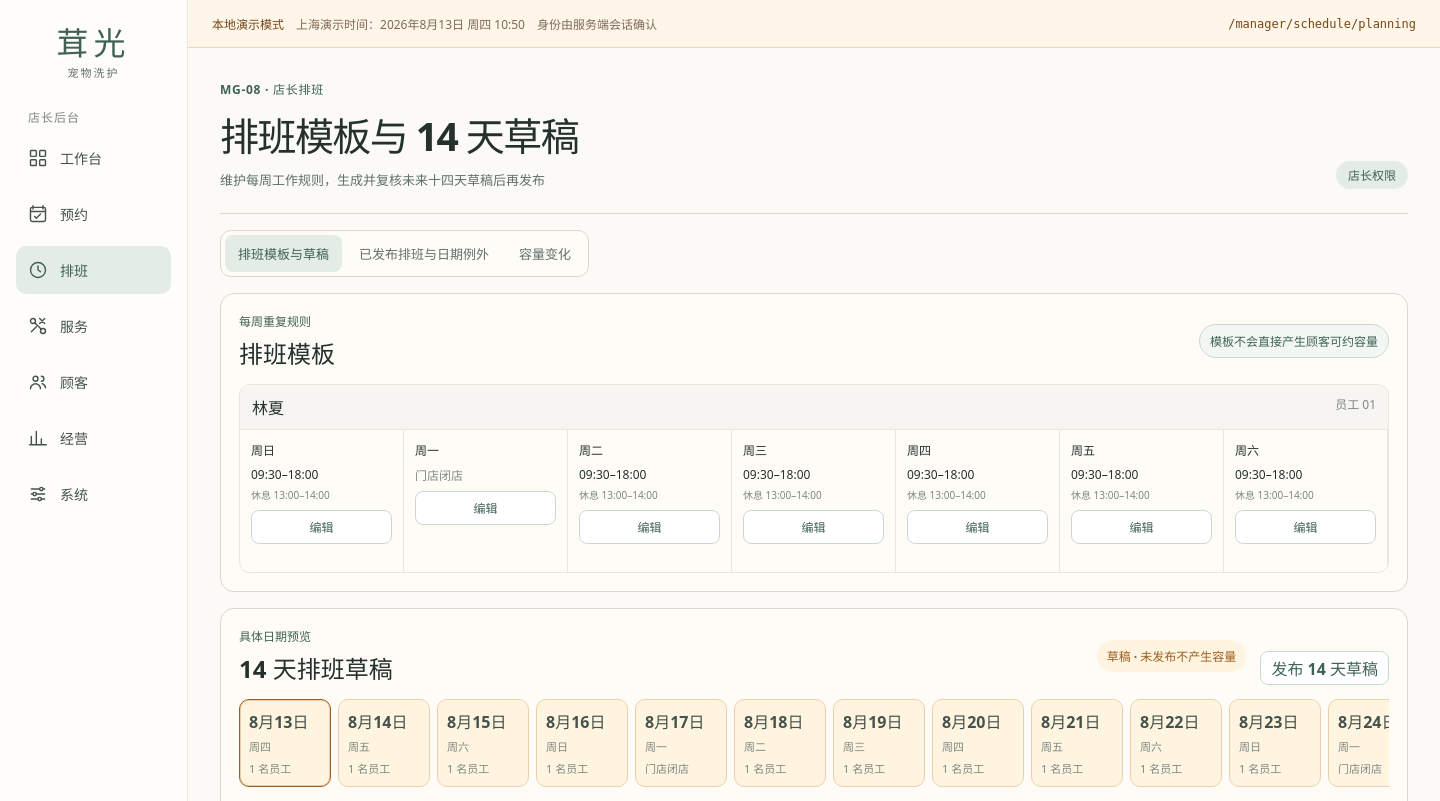
Scenario: MG-08 排班模板与十四天草稿页面 › 确认后一次发布十四天草稿，并明确指向已发布排班
Click the button "发布 14 天草稿".
click(1325, 668)  # box [1260, 651, 1389, 685]
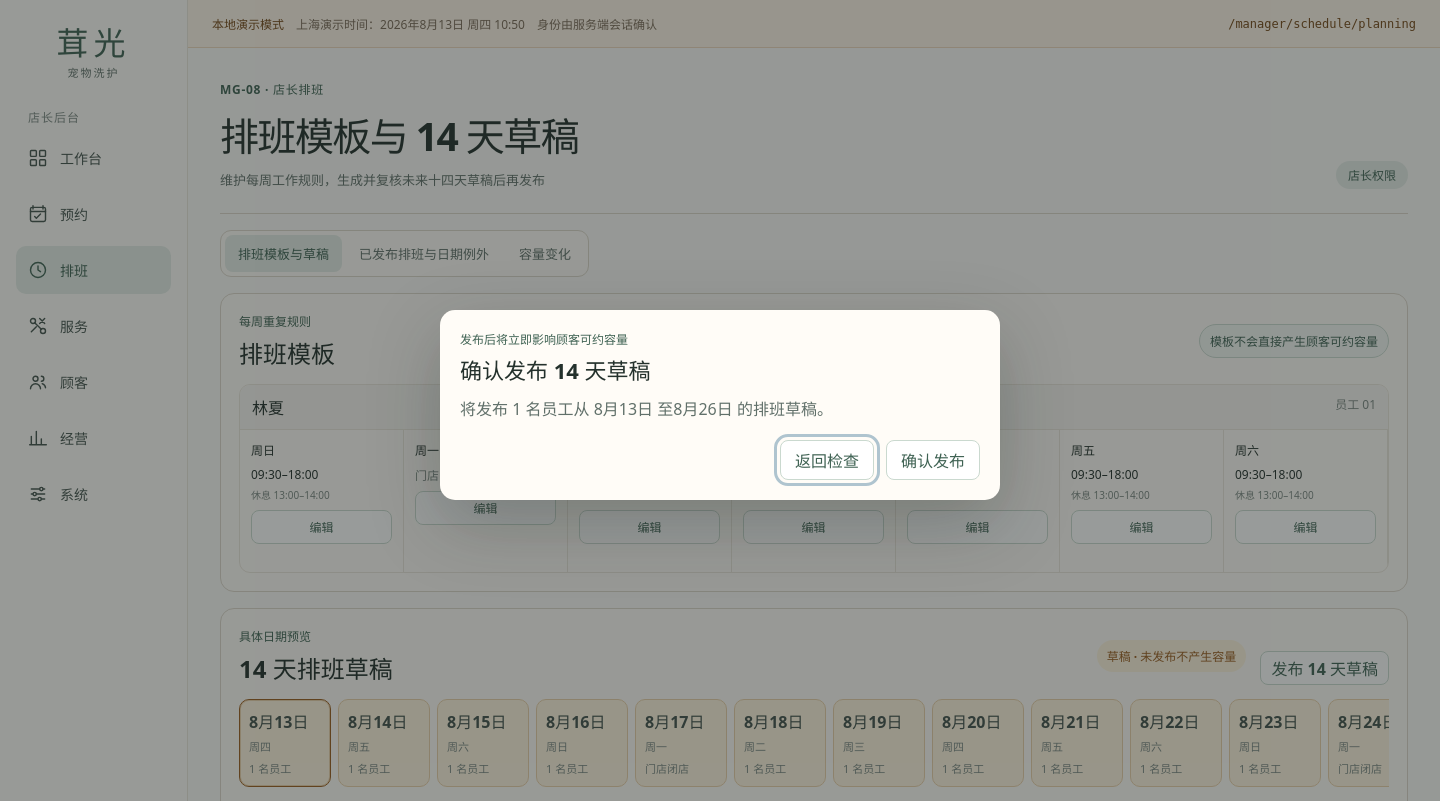
Click the button "确认发布".
click(933, 460)  # box [886, 440, 980, 480]
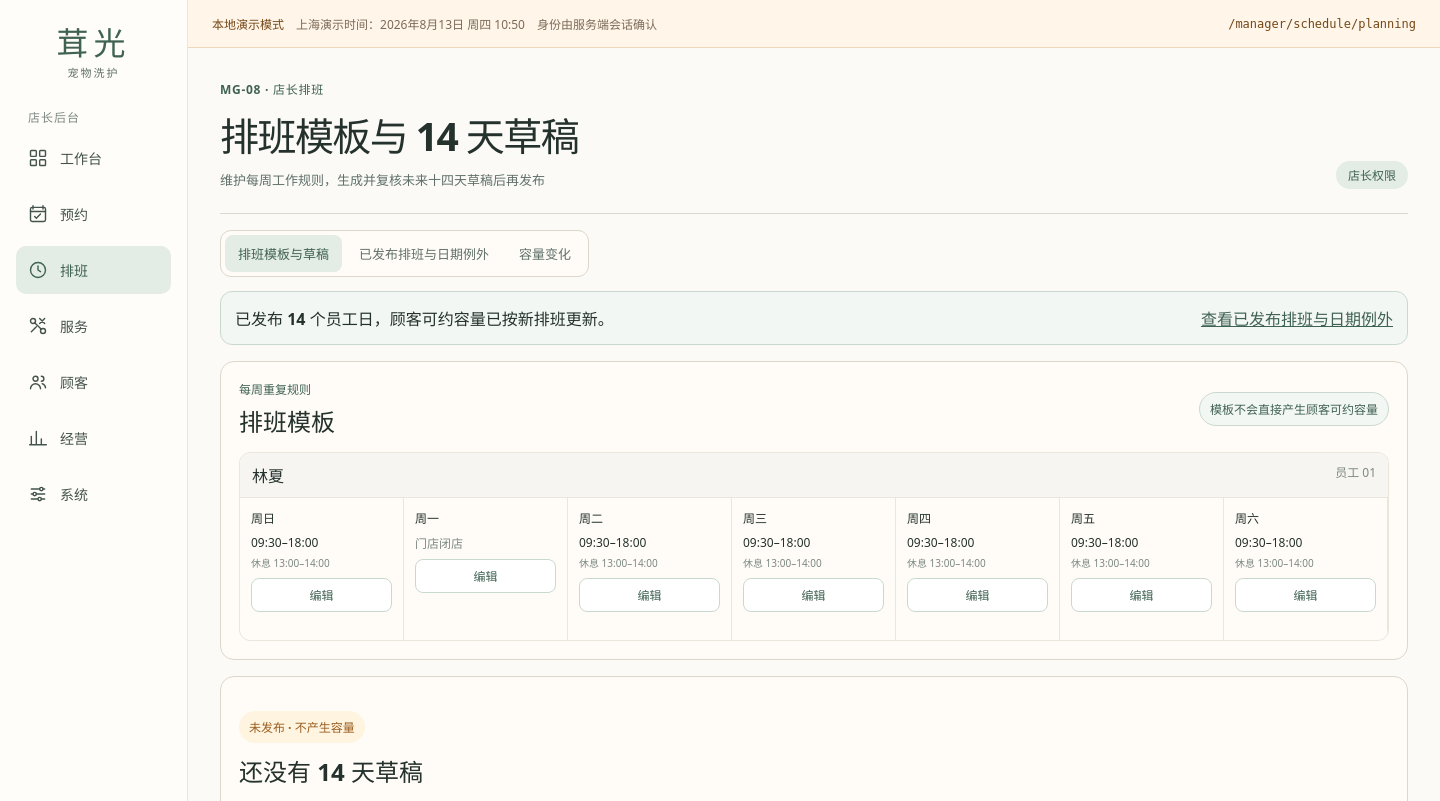
Result: the text "已发布 14 个员工日，顾客可约容量已按新排班更新。" is shown at [235, 306, 614, 330]
